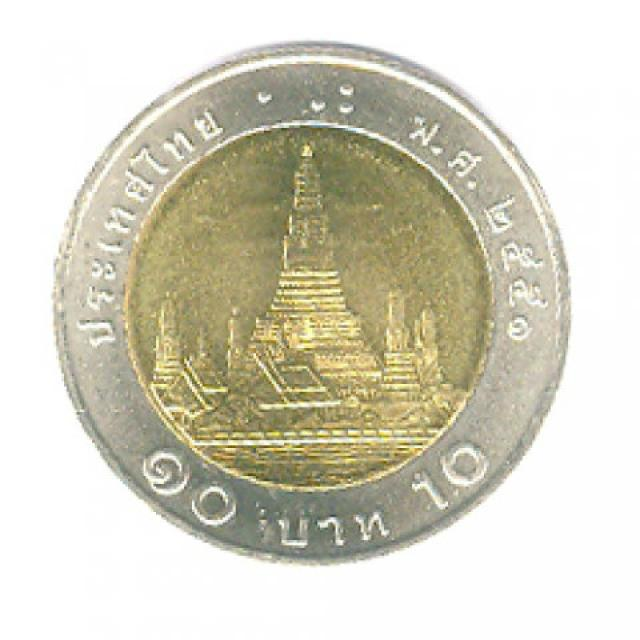10 Bath: (53, 43, 577, 571)
